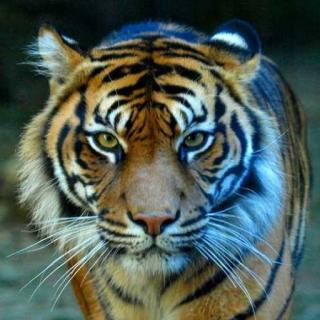Tiger: (4, 12, 314, 320)
